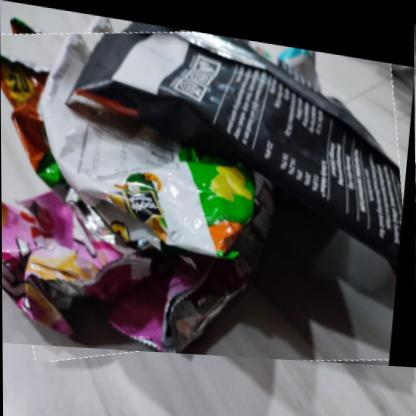Garbage: (1, 1, 416, 365)
